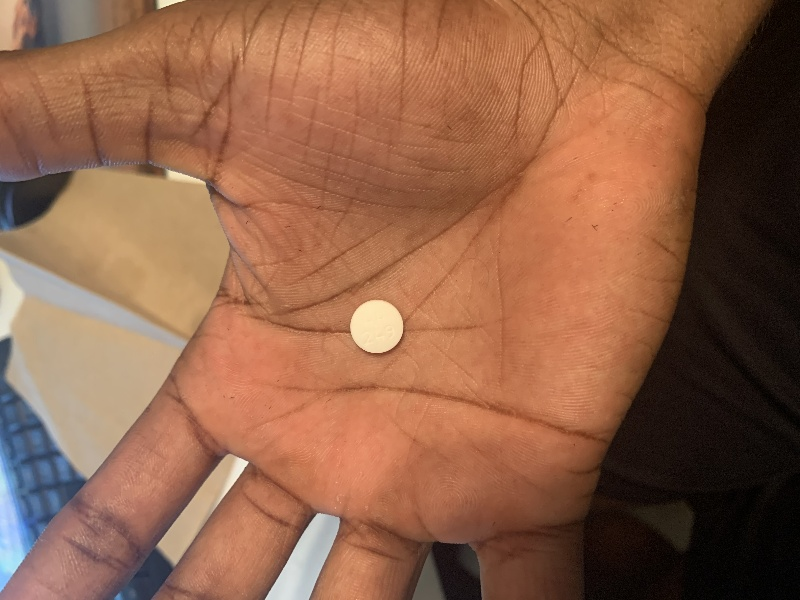Aspirin: (347, 297, 408, 358)
